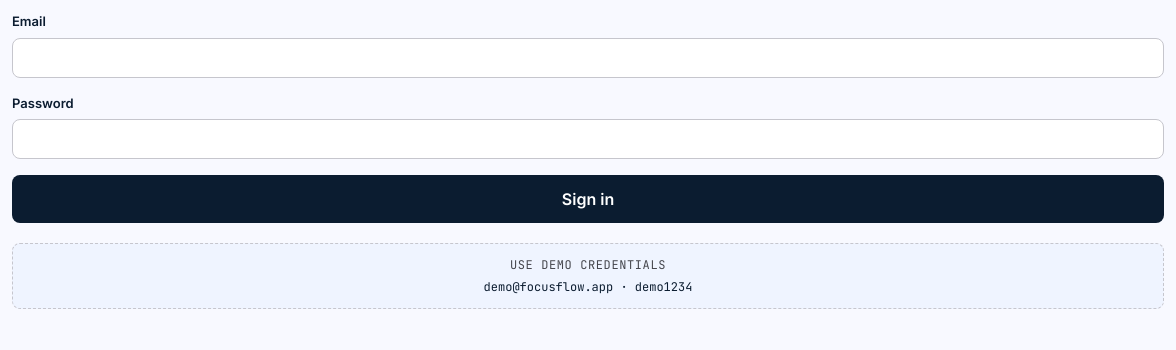
<LoginForm /> › shows error for malformed email
In the field labelled "Email": (588, 58) [12,38,1164,78], type "not-an-email"
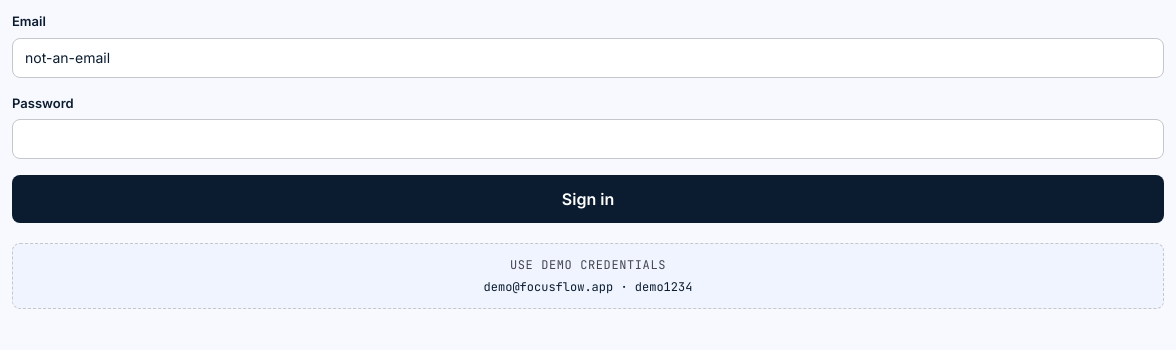
In the password field labelled "Password": (588, 139) [12,119,1164,159], type "abcd1234"
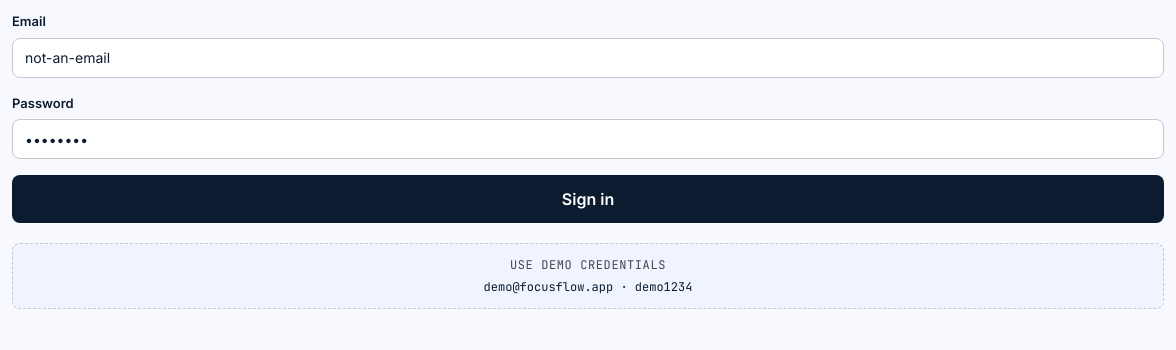
Click the button "Sign in": (588, 199) [12,175,1164,223]
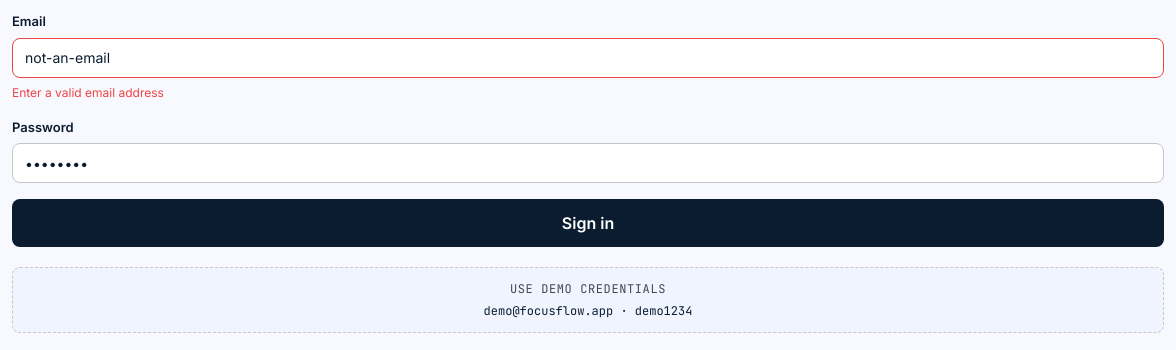
Check: the text "Enter a valid email address" is shown, box [12,84,164,100]
